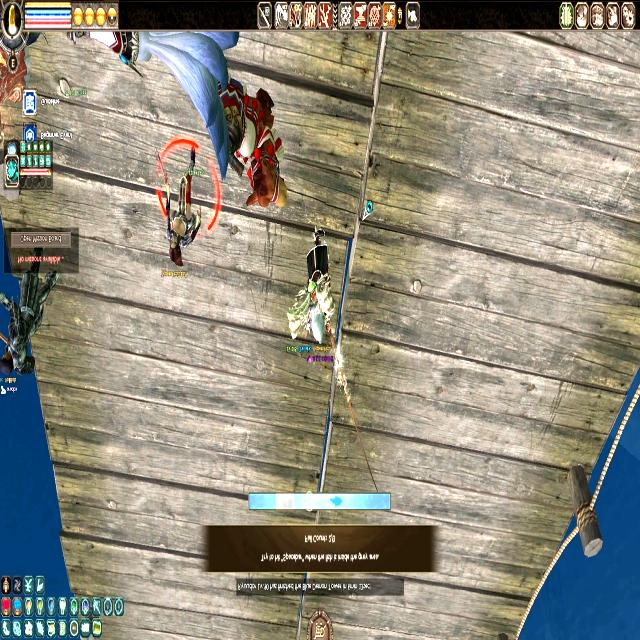fishes: (330, 494, 342, 508)
